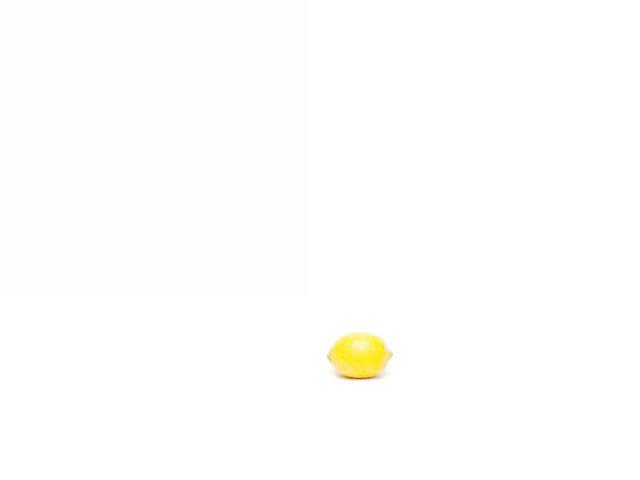lemon: (327, 330, 398, 385)
